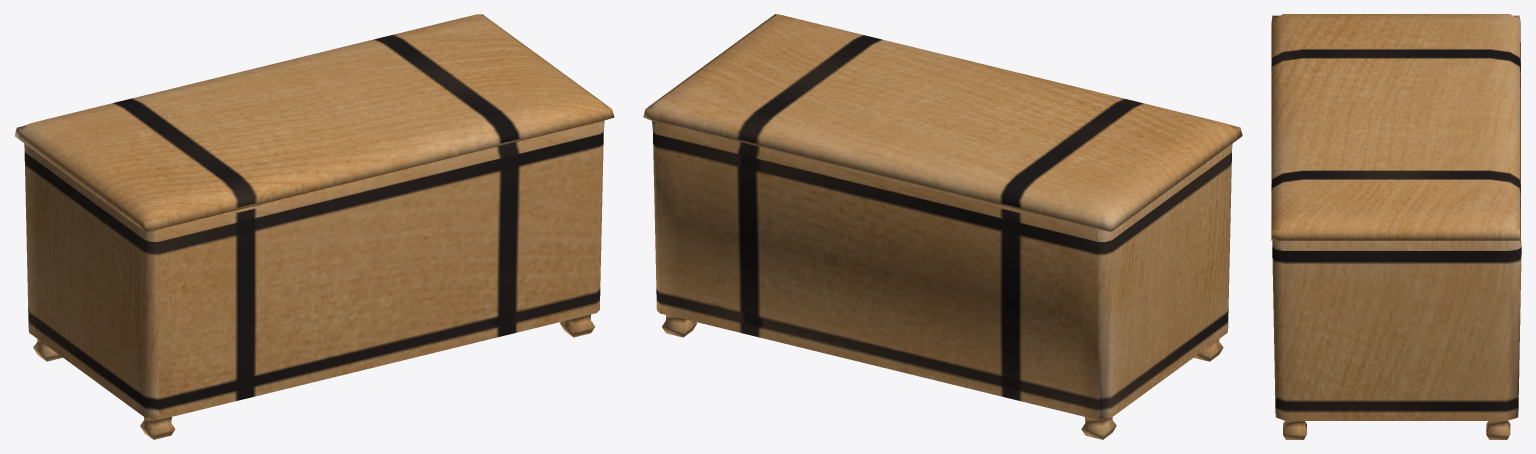
File: ChestWood_vi.fbx
The picture shows the model from 3 angles, left to right: view 1: azimuth 30°, elevation 25°; view 2: azimuth 150°, elevation 25°; view 3: azimuth 270°, elevation 25°; orthographic projection. The views are drawn at different scales.
Parts seen in each view (by area): view 1: Chestwood; view 2: Chestwood; view 3: Chestwood.
Boxes of the visible parts, x1,y1,x2,y2 form: Chestwood: (14,14,614,439); Chestwood: (643,14,1242,439); Chestwood: (1271,14,1521,439).
Bounding box in the file's own units: 0.0135 × 0.00645 × 0.00655.
Materials: 1 (1 with a texture image).
